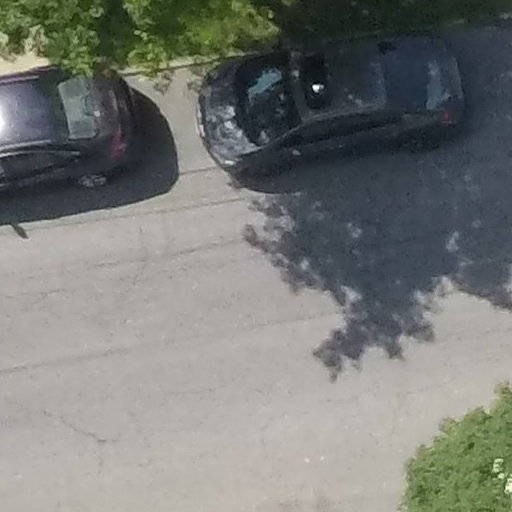car: (174, 39, 481, 177)
